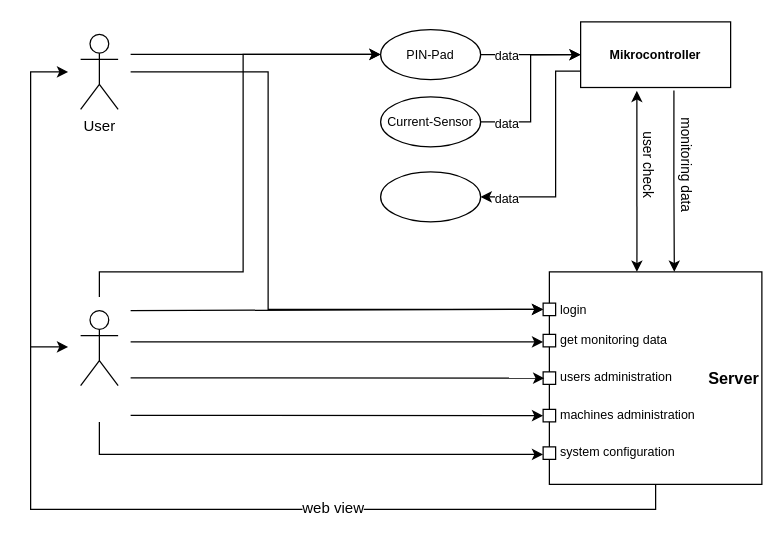
This 784x541 diagram has some shape labels left out. The centre of each missing label's shape, as x and y in pixels:
Admin: (98,347)
LEDs: (430,196)
